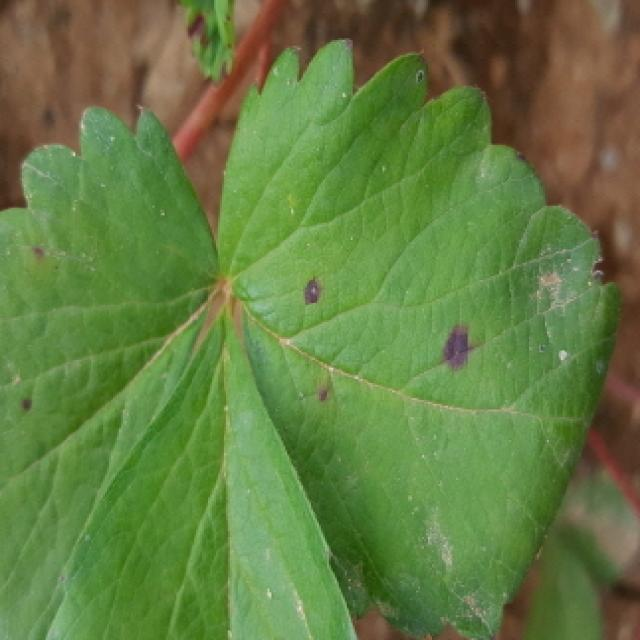Leaf Spot: (217, 38, 621, 640), (0, 99, 223, 640)
